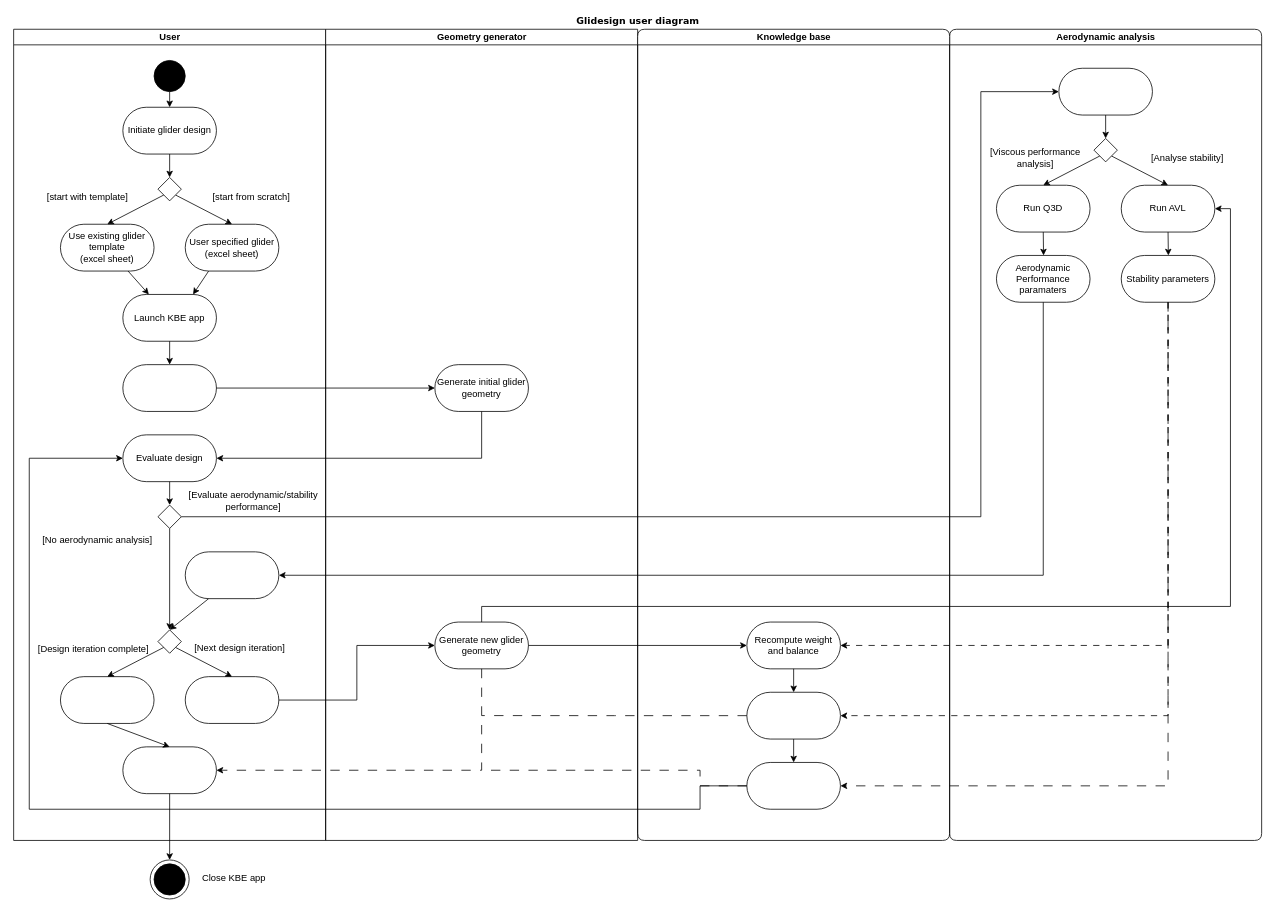
Image size: 1275x913. Some labels were removed from this diagram. Here are the shapes that lost their labels. From the top down, the centre of each, then its label:
(x=1105, y=91): Initiate aerodynamic analysis
(x=169, y=387): Load glider geometry
(x=231, y=575): Analyse aerodynamic performance
(x=107, y=699): Leave configuration as it is
(x=231, y=699): Change glider wing/fuselage/pilot configuration
(x=793, y=715): Resize the horizontal and vertical tail
(x=169, y=770): Generate output files
(x=793, y=785): Generate scissor plot
